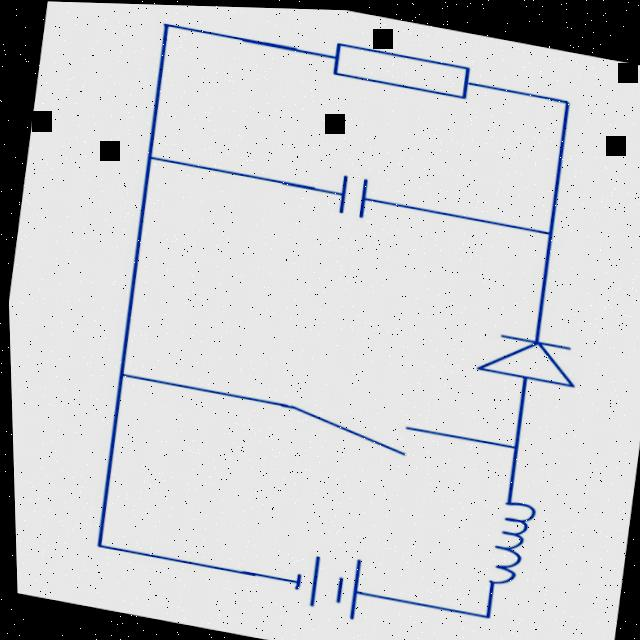capacitor: (308, 159, 397, 233)
diode: (459, 311, 595, 408)
inductor: (448, 480, 555, 602)
resistor: (313, 25, 487, 109)
source: (266, 531, 373, 625)
switch: (247, 378, 441, 465)
